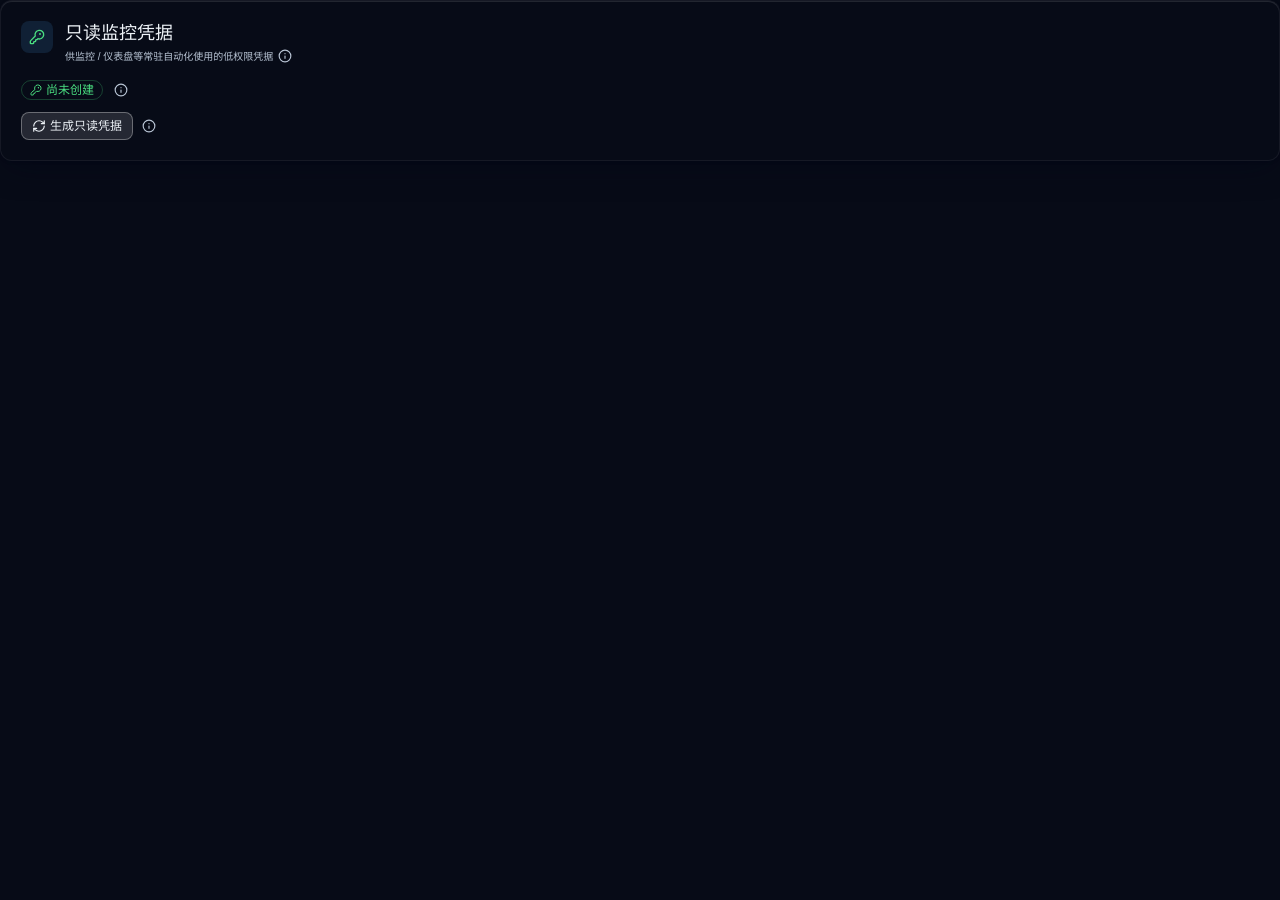
Test: ReadonlyCredentialPanel 生成与明文一次性展示 › 生成失败（404 语义：只读 Key 不可自我轮换）：提示失败且不展示明文
Click the button "生成只读凭据": (77, 126) [21,112,133,140]
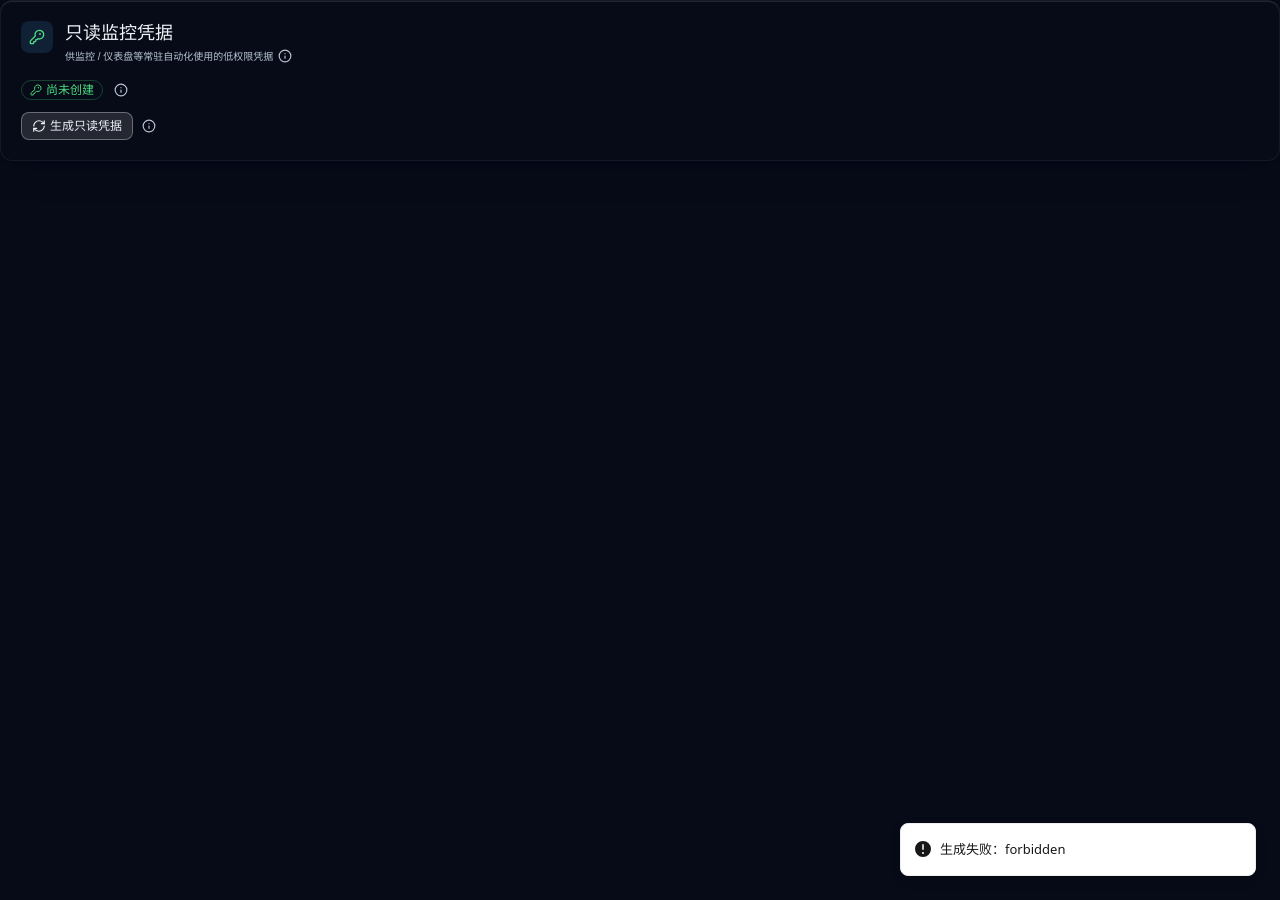
Check: the text "生成失败：forbidden" is shown, box [940,840,1065,859]
